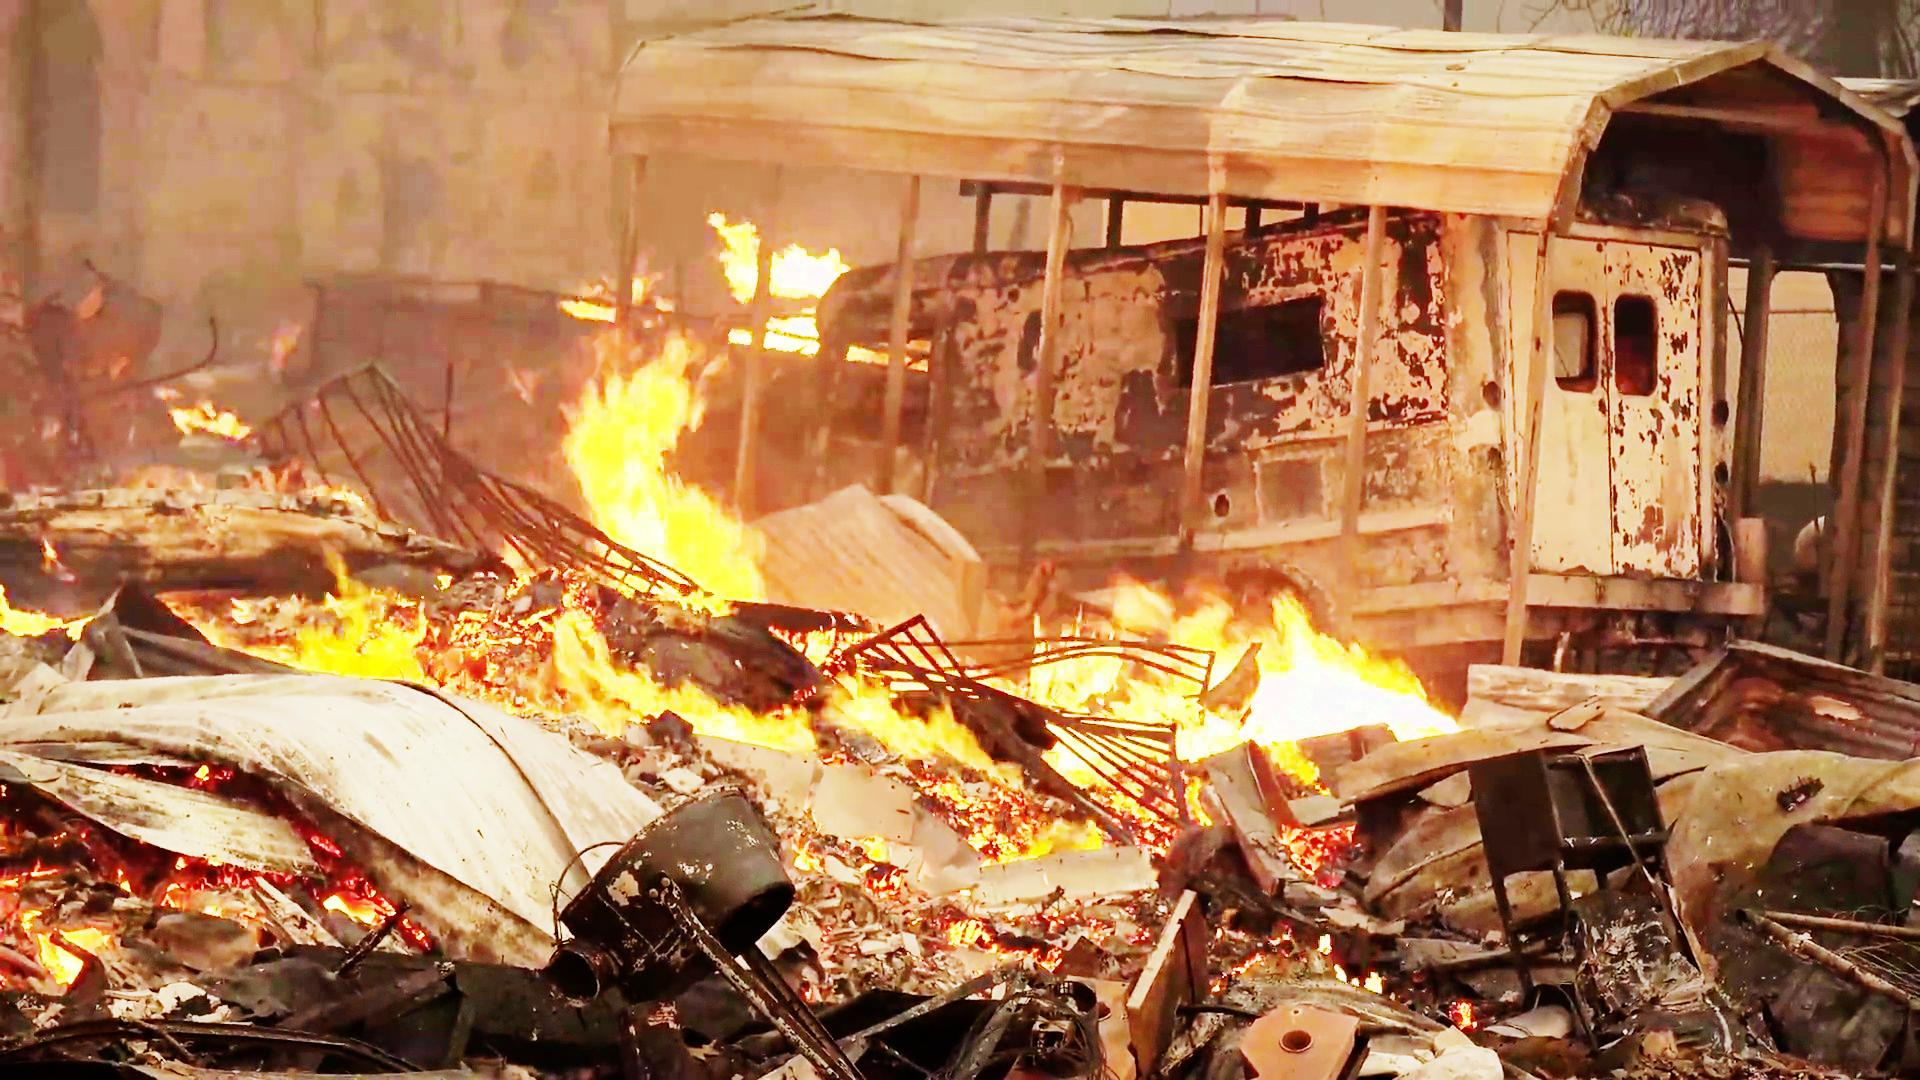fire: (1033, 593, 1425, 774), (571, 331, 749, 603)
